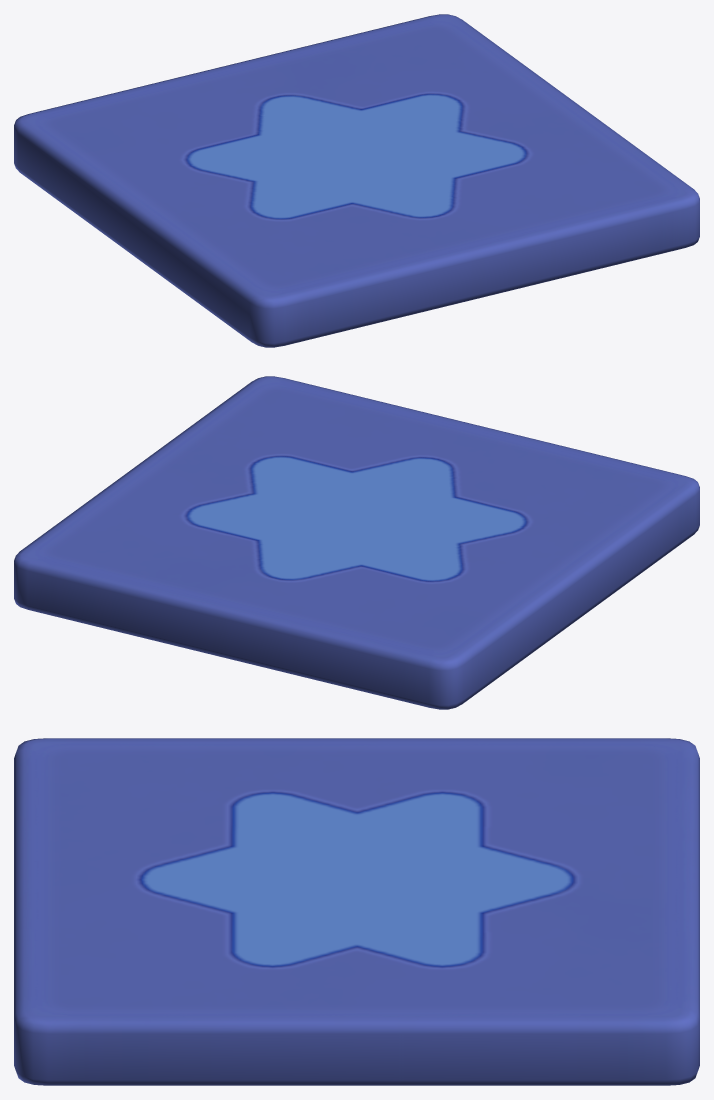
Rendered from SM_ParkourBoard_Square.fbx.
3 views of the same model, one above another, from view 1: azimuth 30°, elevation 25°; view 2: azimuth 150°, elevation 25°; view 3: azimuth 270°, elevation 25° (orthographic). The views are drawn at different scales.
Parts seen in each view (by area): view 1: SM_ParkourBoard_Square; view 2: SM_ParkourBoard_Square; view 3: SM_ParkourBoard_Square.
Boxes of the visible parts, <box> form: SM_ParkourBoard_Square: <box>14,14,699,347</box>; SM_ParkourBoard_Square: <box>14,376,699,709</box>; SM_ParkourBoard_Square: <box>14,738,699,1085</box>.
Size of the model in its own units: 963 by 100 by 963.
